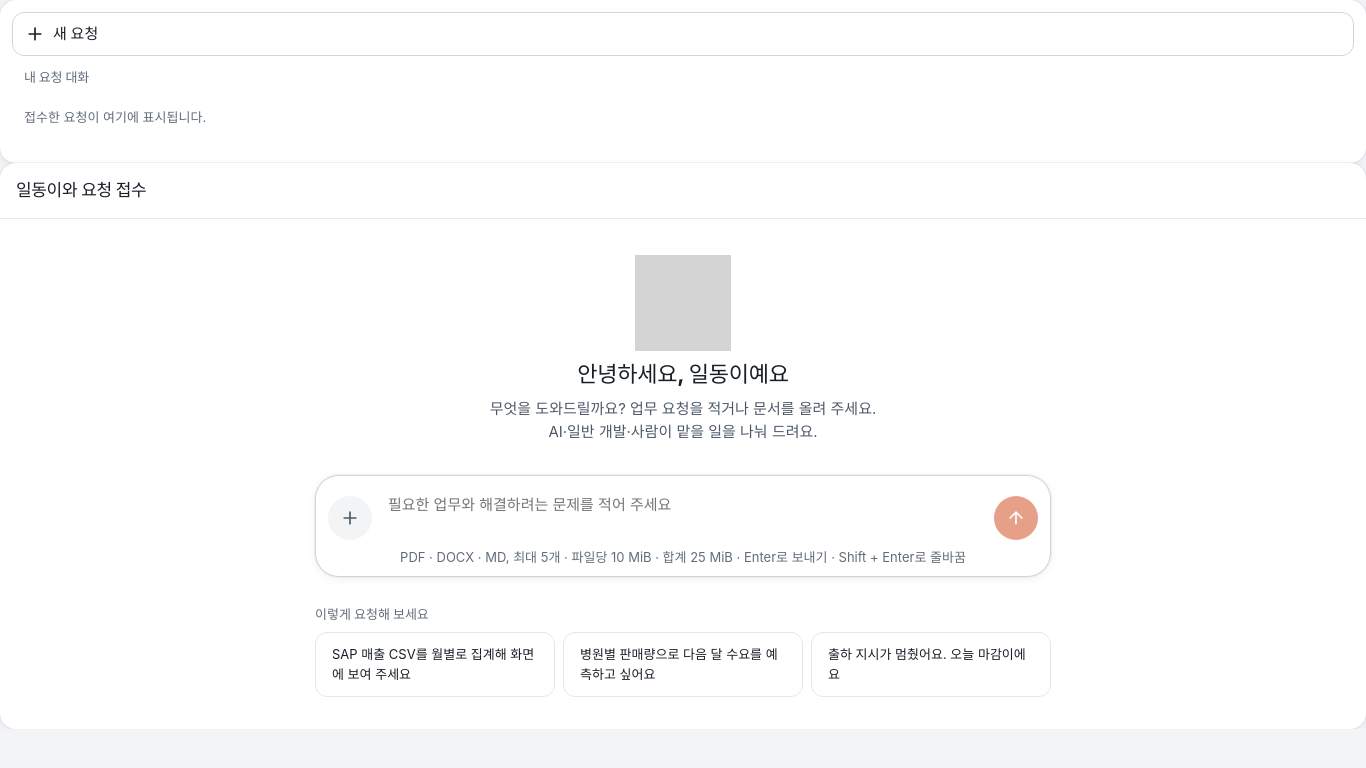
Scenario: first screen › an example chip fills the composer for editing and sends nothing by itself
Click the button "SAP 매출 CSV를 월별로 집계해 화면에 보여 주세요" at (435, 664), box [315,632,555,697]
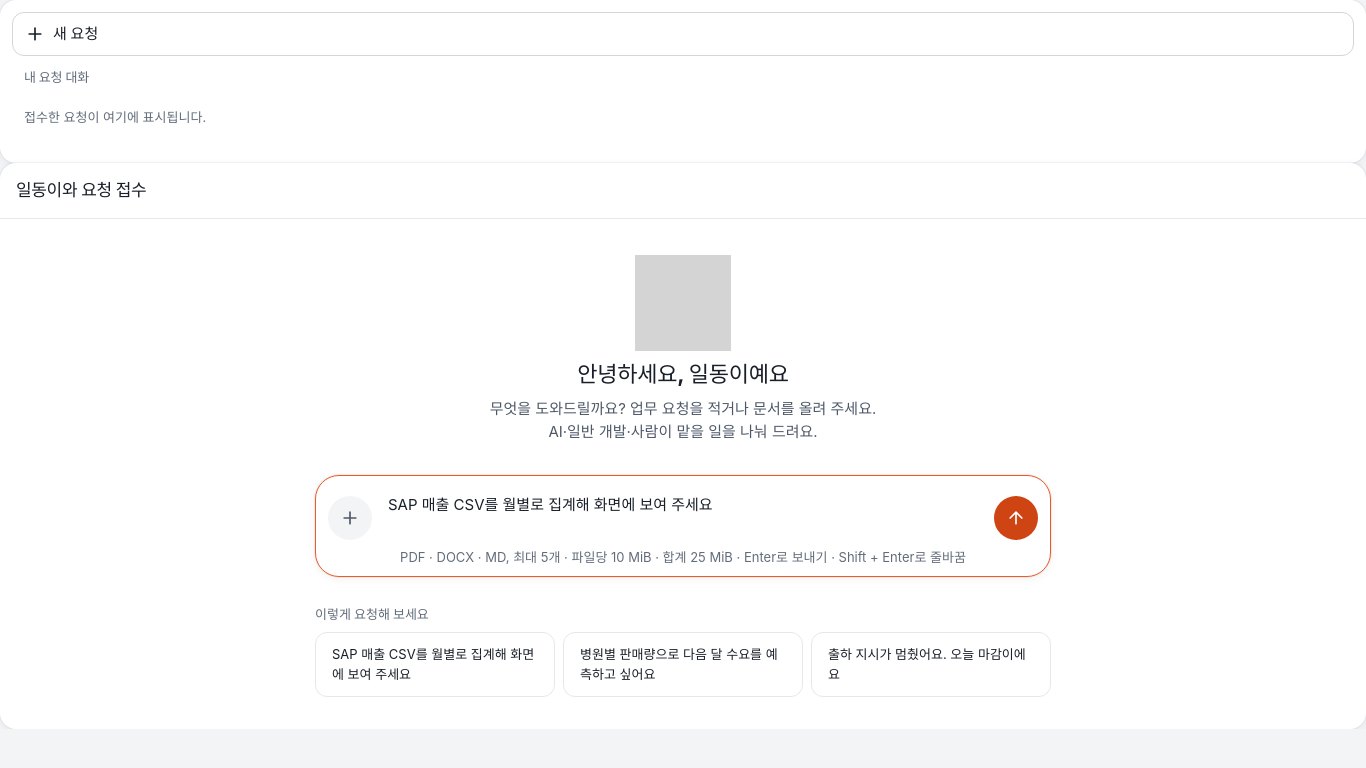
expect the text box named "요청 내용" holds "SAP 매출 CSV를 월별로 집계해 화면에 보여 주세요": met, box [380,484,986,540]
